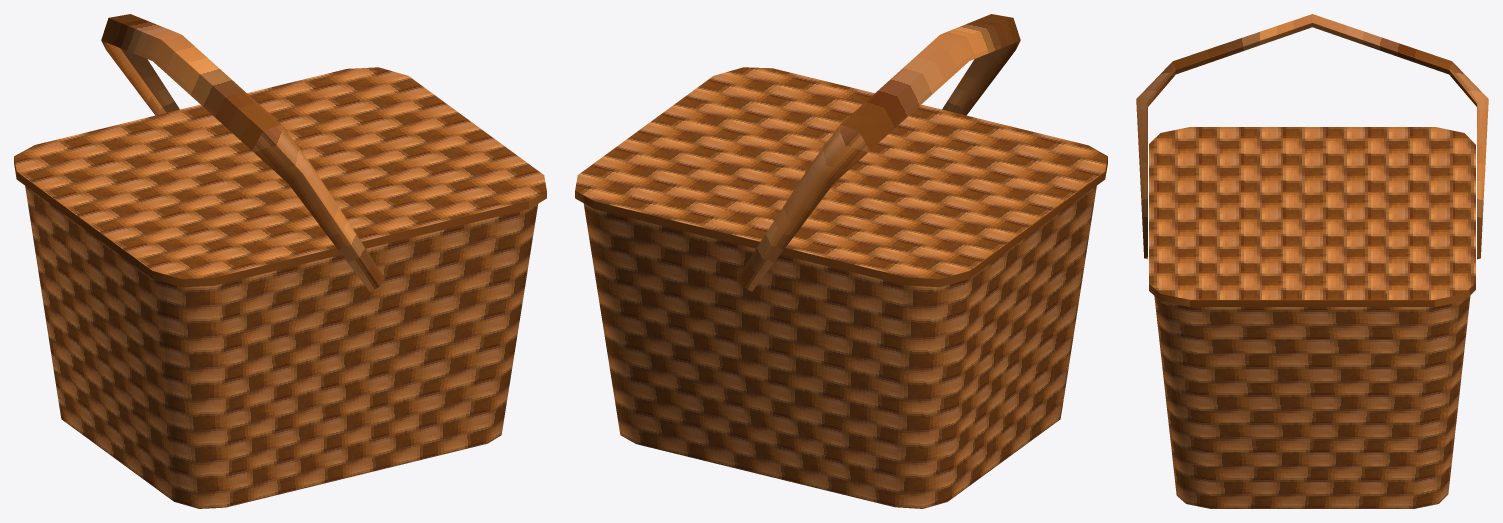
Rendered from PicnicBasket.FBX.
3 renders of one model, left to right at view 1: azimuth 30°, elevation 25°; view 2: azimuth 150°, elevation 25°; view 3: azimuth 270°, elevation 25°, orthographic. The views are drawn at different scales.
Parts seen in each view (by area): view 1: picnicbasket_; view 2: picnicbasket_; view 3: picnicbasket_.
Boxes of the visible parts, x1,y1,x2,y2 form: picnicbasket_: [14, 14, 546, 508]; picnicbasket_: [575, 14, 1107, 508]; picnicbasket_: [1136, 14, 1488, 508].
Size of the model in its own units: 79.25 by 79.29 by 68.31.
